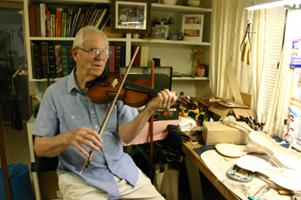person: (32, 27, 179, 200)
